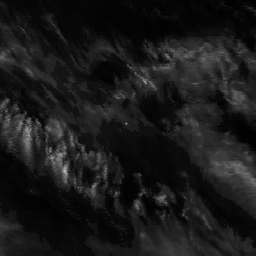Target: (124, 121, 129, 126)
